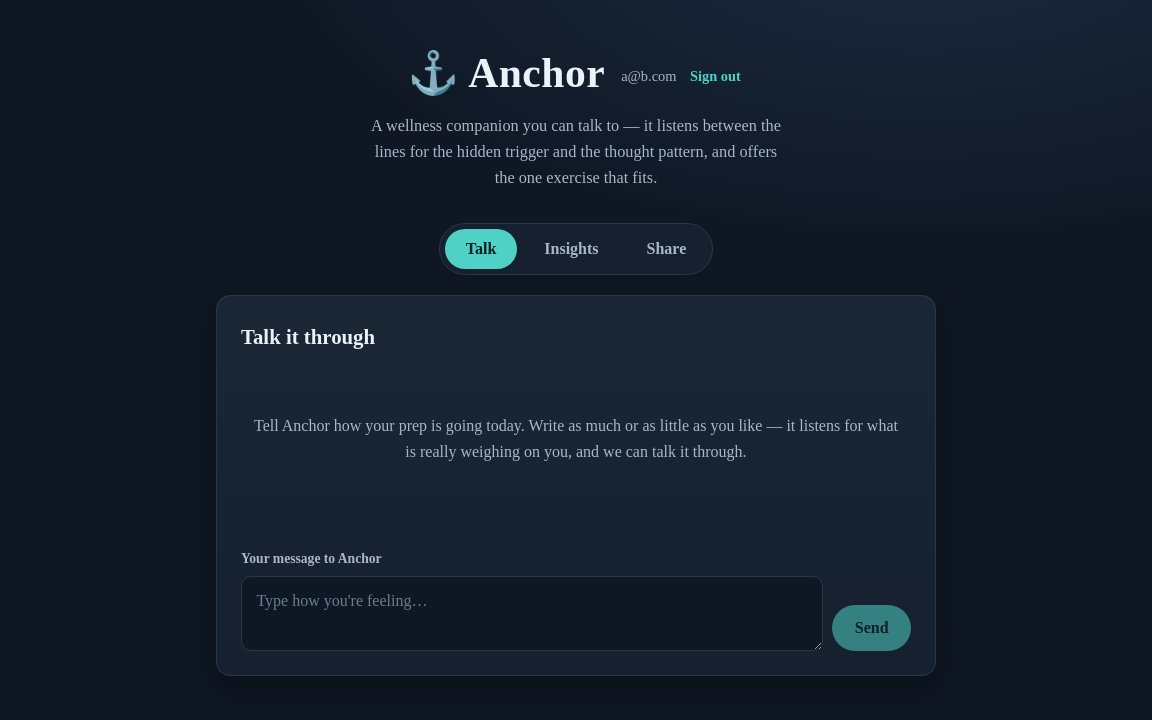
App › opens the Share tab with the doctor summary
expect the heading "Talk it through" is shown: met, box [241, 325, 375, 348]
Click the button "Share" at (666, 249), box [626, 229, 707, 269]
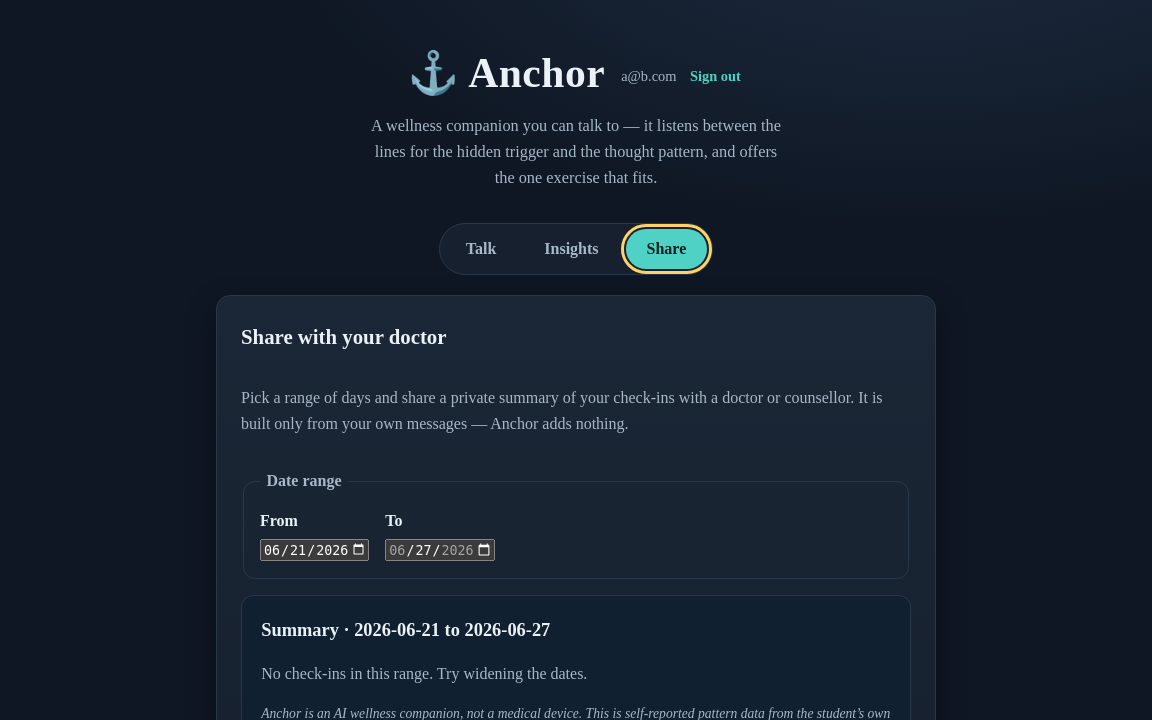
expect the heading "Share with your doctor" is shown: met, box [241, 325, 446, 348]
expect the date field labelled "From" is shown: met, box [260, 539, 369, 561]
